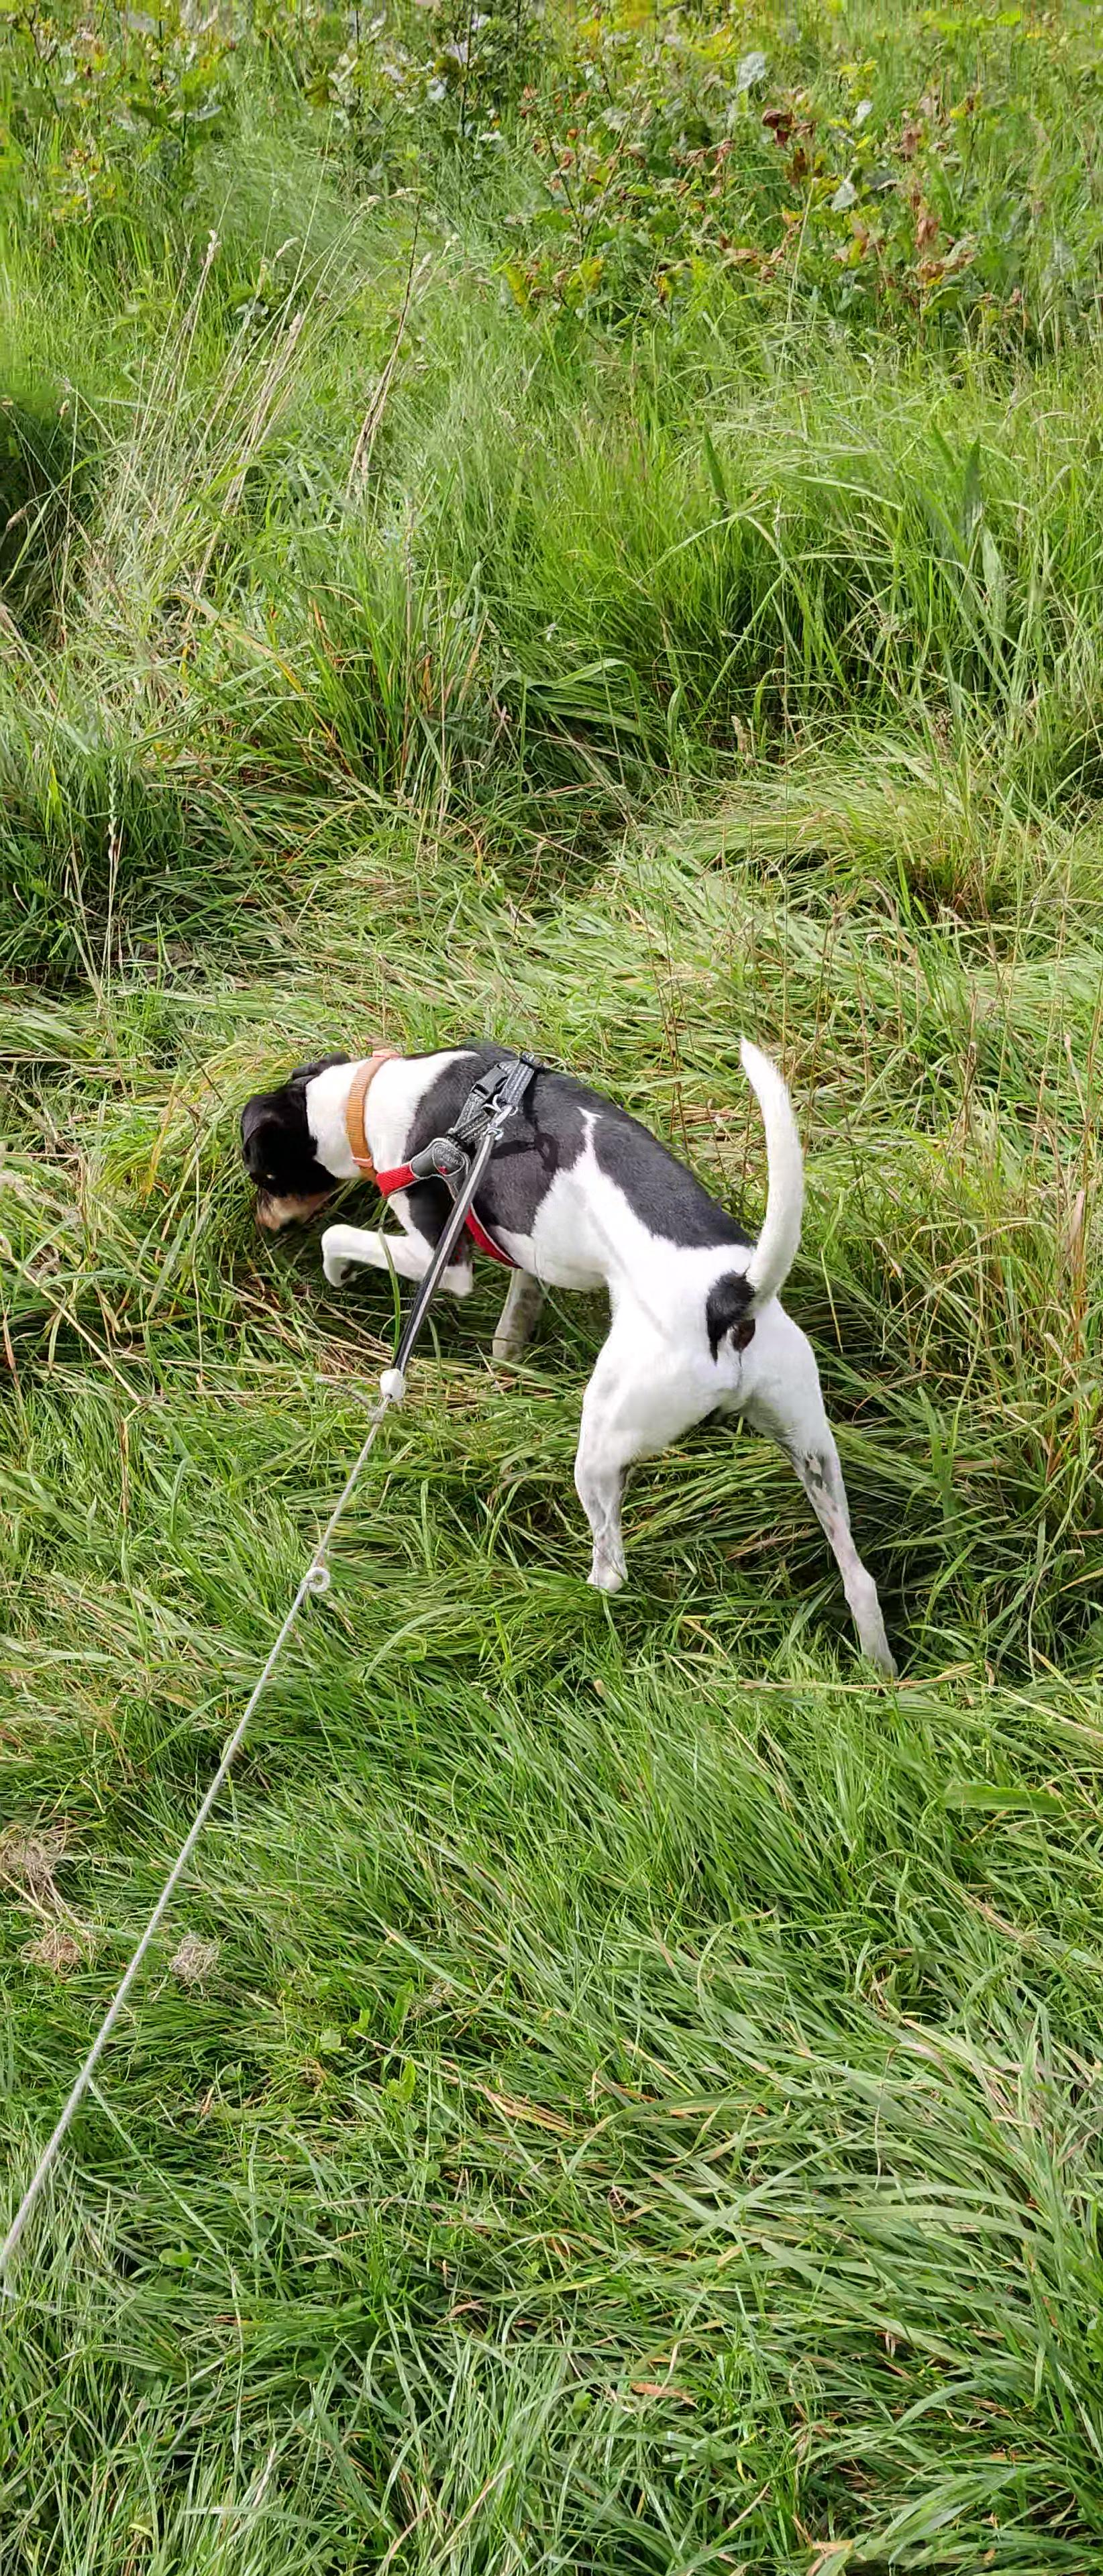Dog: (232, 966, 909, 1712)
